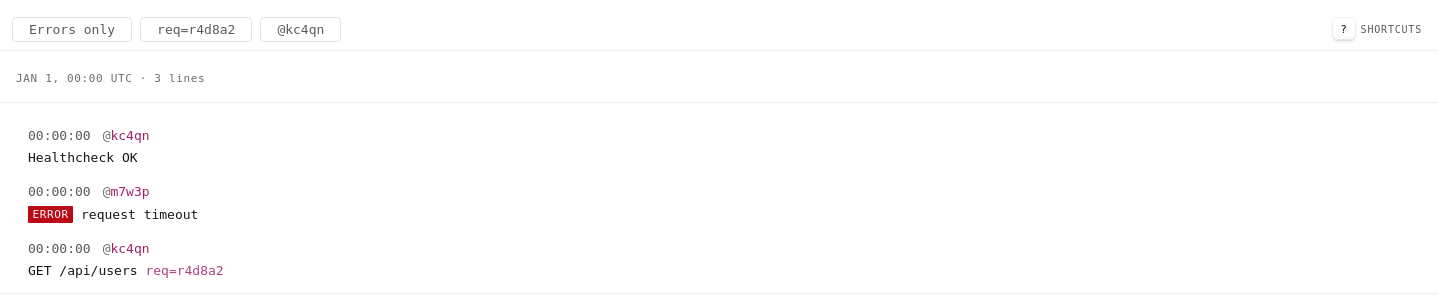
Test case: LogExplorer › selecting a chip replaces the active filter (single-select)
// Only errors: just the ERROR line (on m7w3p) is visible.
What coordinates should you click on to do the following:
click the button "Errors only"
I would click on:
 (72, 29)
Its box is [12, 16, 132, 42].
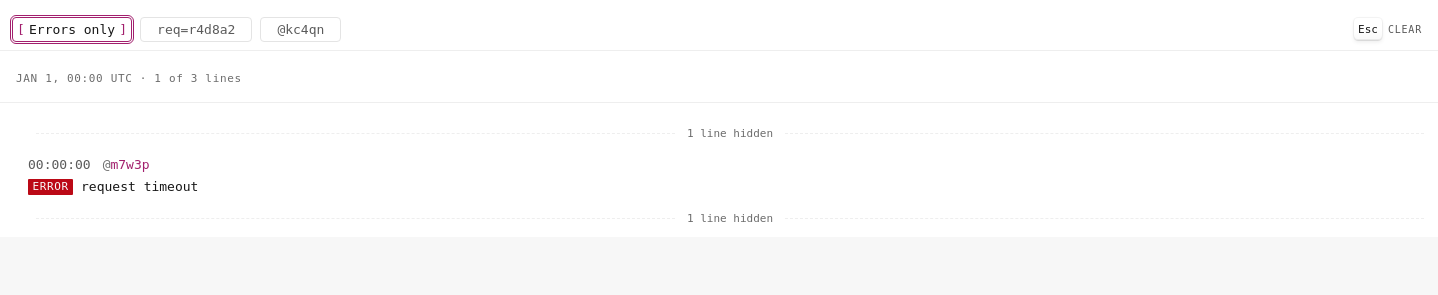
Expected: the text "request timeout" is shown, [81, 179, 198, 194]
Now the option "Healthcheck OK" is gone
What coordinates should you click on to do the following:
click the button "@kc4qn"
I would click on:
 (301, 29)
Its box is [260, 16, 341, 42].
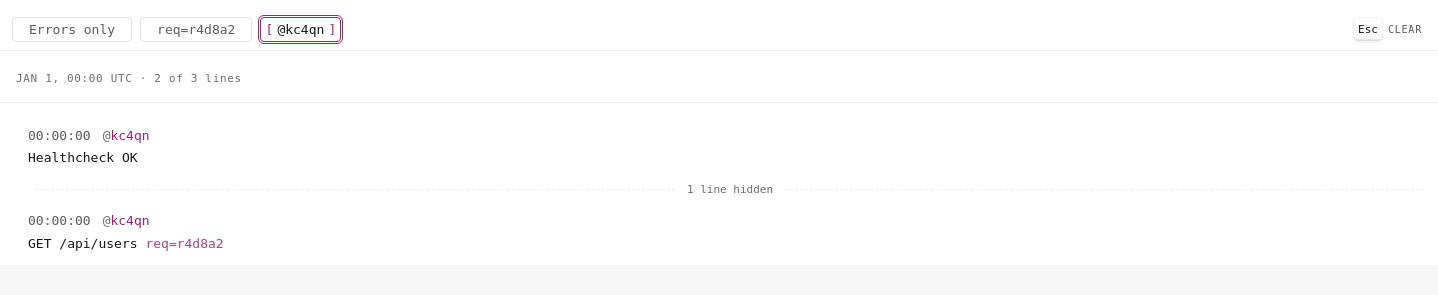
Now the option "request timeout" is gone
Now the text "Healthcheck OK" is shown, box [28, 150, 138, 165]
Now the text "GET /api/users" is shown, box [28, 236, 138, 251]
// Re-selecting the active chip clears it: every line returns.
What coordinates should you click on to do the following:
click the button "@kc4qn"
I would click on:
 (301, 29)
Its box is [260, 16, 341, 42].
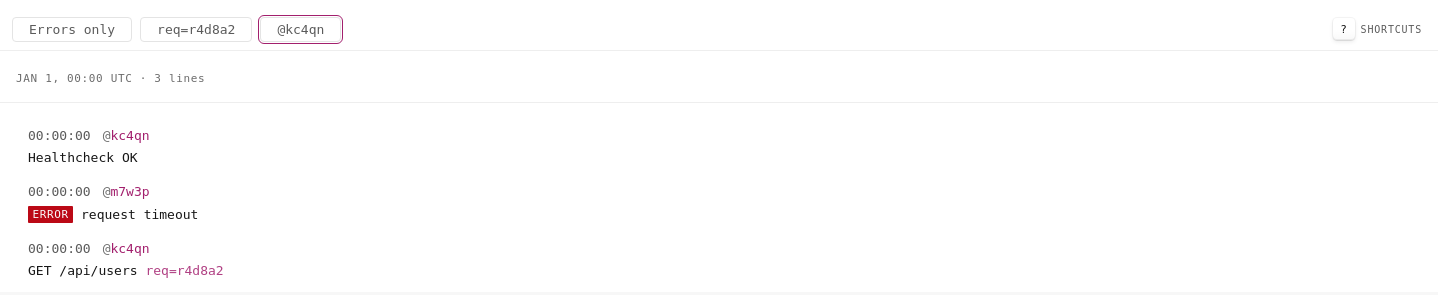
Now the text "Healthcheck OK" is shown, box [28, 150, 138, 165]
Now the text "request timeout" is shown, box [81, 207, 198, 222]
